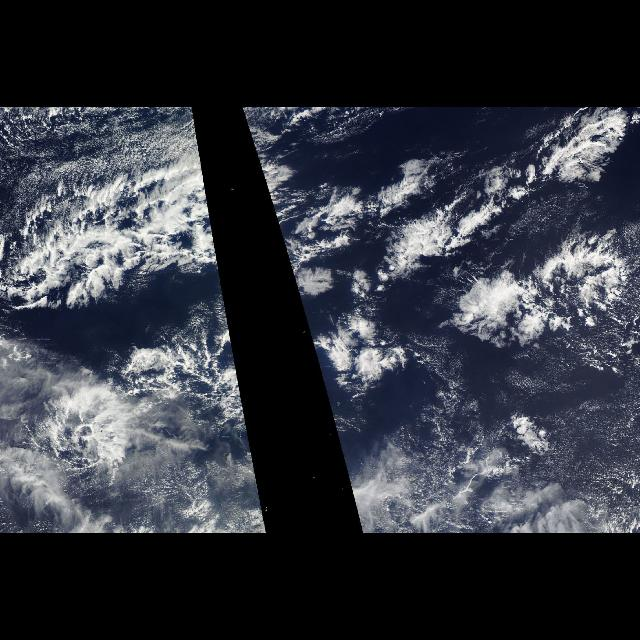Fish: (324, 117, 640, 353), (1, 137, 230, 321), (252, 138, 310, 314)
Flower: (288, 173, 620, 385)
Sugar: (400, 338, 640, 528), (1, 108, 186, 204)
